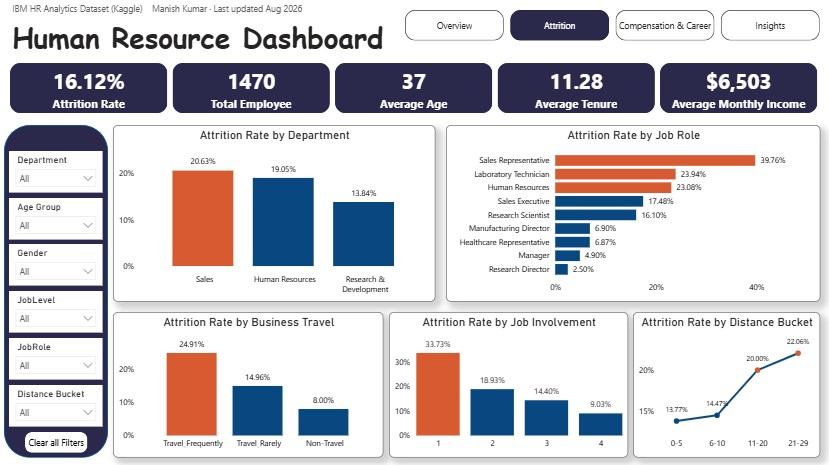

What the dashboard file says about the page in this screenshot:
{"tool":"powerbi","page":{"name":"Attrition","canvas":[1280,720],"ordinal":1},"visuals":[{"type":"clusteredColumnChart","fields":{"Category":["HR_Analytics.Department"],"Y":["HR_Analytics.Attrition Rate"]},"box":[176,192,496,272],"z":0},{"type":"clusteredBarChart","title":"Attrition Rate by Job Role","fields":{"Category":["HR_Analytics.JobRole"],"Y":["HR_Analytics.Attrition Rate"]},"box":[688,192,576,272],"z":1000},{"type":"textbox","box":[16,0,592,96],"z":2000},{"type":"cardVisual","fields":{"Data":["HR_Analytics.Attrition Rate","HR_Analytics.Total Employee","Avg(HR_Analytics.Age)","Avg(HR_Analytics.TotalWorkingYears)","Avg(HR_Analytics.MonthlyIncome)"]},"box":[0,80,1280,112],"z":3000},{"type":"clusteredColumnChart","fields":{"Category":["HR_Analytics.BusinessTravel"],"Y":["HR_Analytics.Attrition Rate"]},"box":[176,480,416,224],"z":4000},{"type":"clusteredColumnChart","title":"Attrition Rate by Job Involvement","fields":{"Category":["HR_Analytics.JobInvolvement"],"Y":["HR_Analytics.Attrition Rate"]},"box":[600,480,368,224],"z":5000},{"type":"lineChart","fields":{"Category":["HR_Analytics.Distance Bucket"],"Y":["HR_Analytics.Attrition Rate"]},"box":[976,480,288,224],"z":6000},{"type":"pageNavigator","box":[624,16,640,48],"z":7000},{"type":"shape","box":[8,192,160,512],"z":8000},{"type":"slicer","fields":{"Values":["HR_Analytics.Department"]},"box":[16,232,144,64],"z":9000},{"type":"slicer","fields":{"Values":["HR_Analytics.Age Group"]},"box":[16,304,144,64],"z":10000},{"type":"slicer","fields":{"Values":["HR_Analytics.Gender"]},"box":[16,376,144,64],"z":11000},{"type":"slicer","fields":{"Values":["HR_Analytics.JobLevel"]},"box":[16,448,144,64],"z":12000},{"type":"slicer","fields":{"Values":["HR_Analytics.JobRole"]},"box":[16,520,144,64],"z":13000},{"type":"slicer","fields":{"Values":["HR_Analytics.Distance Bucket"]},"box":[16,592,144,64],"z":14000},{"type":"actionButton","box":[40,664,96,32],"z":15000}]}

Visuals, with their boxes in screenshot pixels (x1, y1, x2, y2), scaled from the page's 1280x720 canvas onto the 829x465 screenshot:
clusteredColumnChart - HR_Analytics.Department x HR_Analytics.Attrition Rate: rect(114, 124, 435, 300)
"Attrition Rate by Job Role" clusteredBarChart: rect(446, 124, 819, 300)
textbox: rect(10, 0, 394, 62)
cardVisual - HR_Analytics.Attrition Rate x HR_Analytics.Total Employee: rect(0, 52, 828, 124)
clusteredColumnChart - HR_Analytics.BusinessTravel x HR_Analytics.Attrition Rate: rect(114, 310, 383, 455)
"Attrition Rate by Job Involvement" clusteredColumnChart: rect(389, 310, 627, 455)
lineChart - HR_Analytics.Distance Bucket x HR_Analytics.Attrition Rate: rect(632, 310, 819, 455)
pageNavigator: rect(404, 10, 819, 41)
shape: rect(5, 124, 109, 455)
slicer - HR_Analytics.Department: rect(10, 150, 104, 191)
slicer - HR_Analytics.Age Group: rect(10, 196, 104, 238)
slicer - HR_Analytics.Gender: rect(10, 243, 104, 284)
slicer - HR_Analytics.JobLevel: rect(10, 289, 104, 331)
slicer - HR_Analytics.JobRole: rect(10, 336, 104, 377)
slicer - HR_Analytics.Distance Bucket: rect(10, 382, 104, 424)
actionButton: rect(26, 429, 88, 450)
